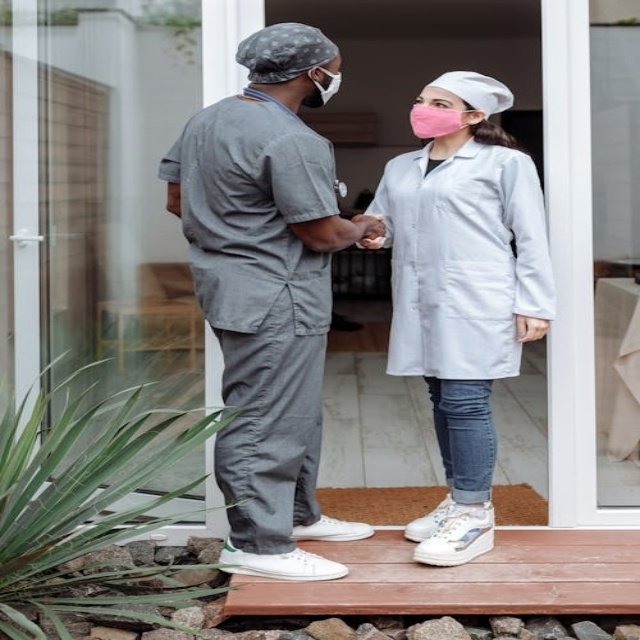Mascara: (409, 104, 477, 139), (309, 67, 341, 107)
Sin_gafas: (412, 93, 457, 109), (321, 61, 344, 74)
Sin_guantes: (351, 213, 390, 248), (513, 313, 554, 346)
